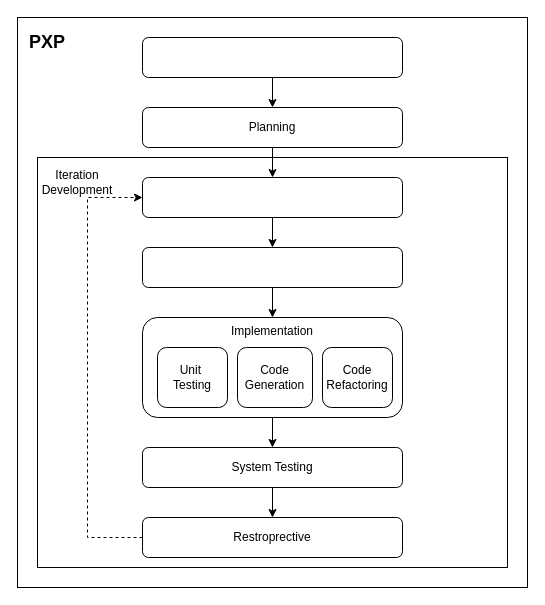
Some shapes in this 545 by 605 pixel diagram are drawn without their labels. Each missing label, with the box of its shape:
Design: (142, 246, 402, 288)
Iteration Inizialisation: (142, 176, 402, 218)
Requirement: (142, 36, 402, 78)
